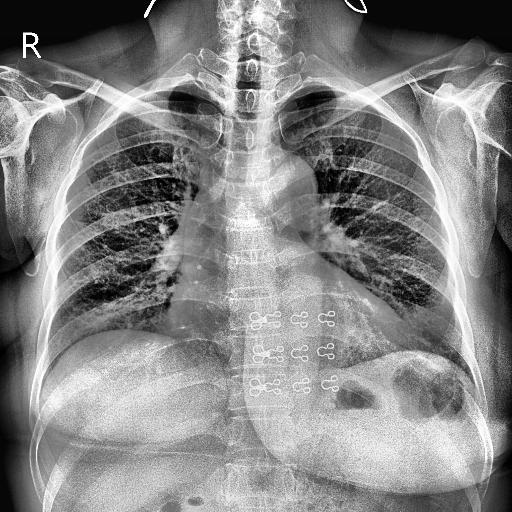0- Aortic enlargement: (182, 155, 320, 262), (228, 149, 320, 243), (252, 146, 318, 232)
3- Cardiomegaly: (166, 286, 416, 354), (166, 308, 416, 370), (167, 296, 419, 351)
